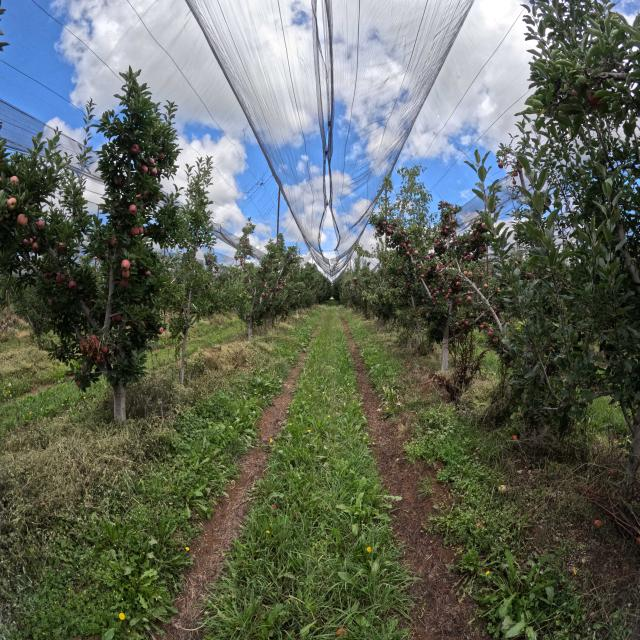-FireBlight-: (80, 336, 100, 361), (100, 353, 104, 362)
